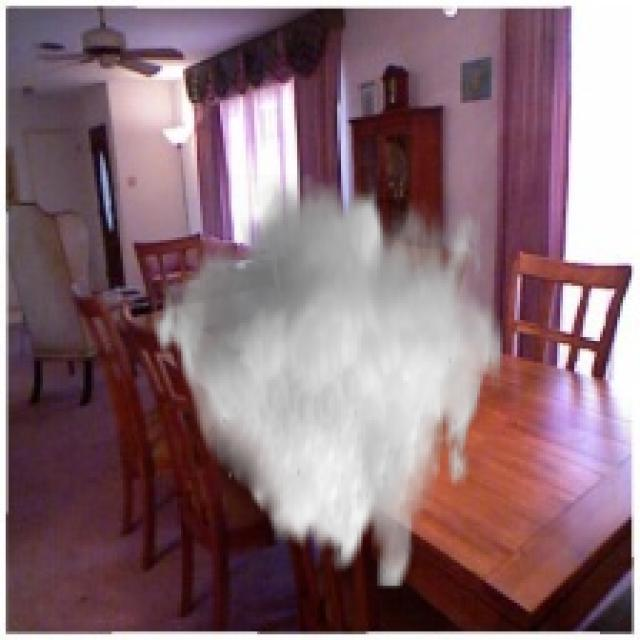Smoke: (146, 174, 503, 589)
